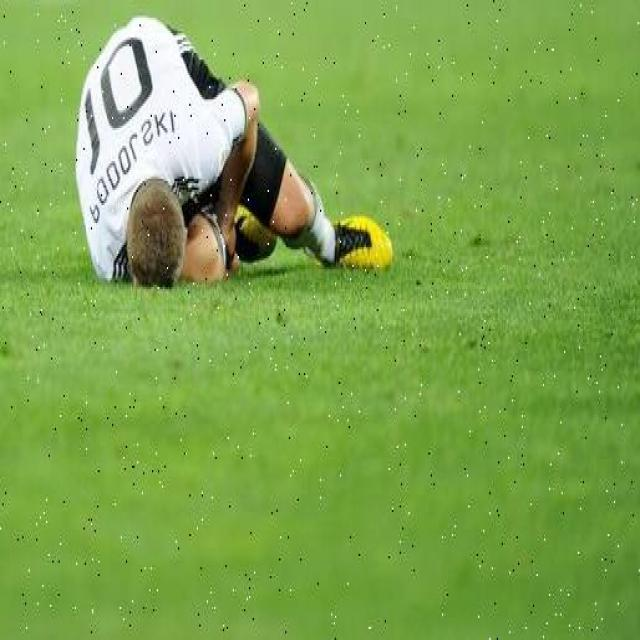fall: (68, 7, 380, 278)
